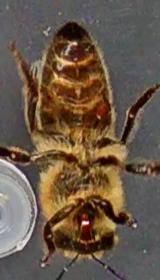varroa_mite: (85, 89, 116, 126)
